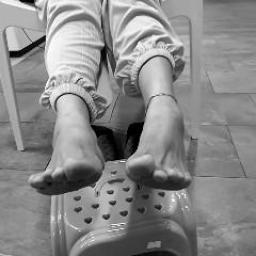Front View -Both Feet-: (14, 67, 216, 205)
